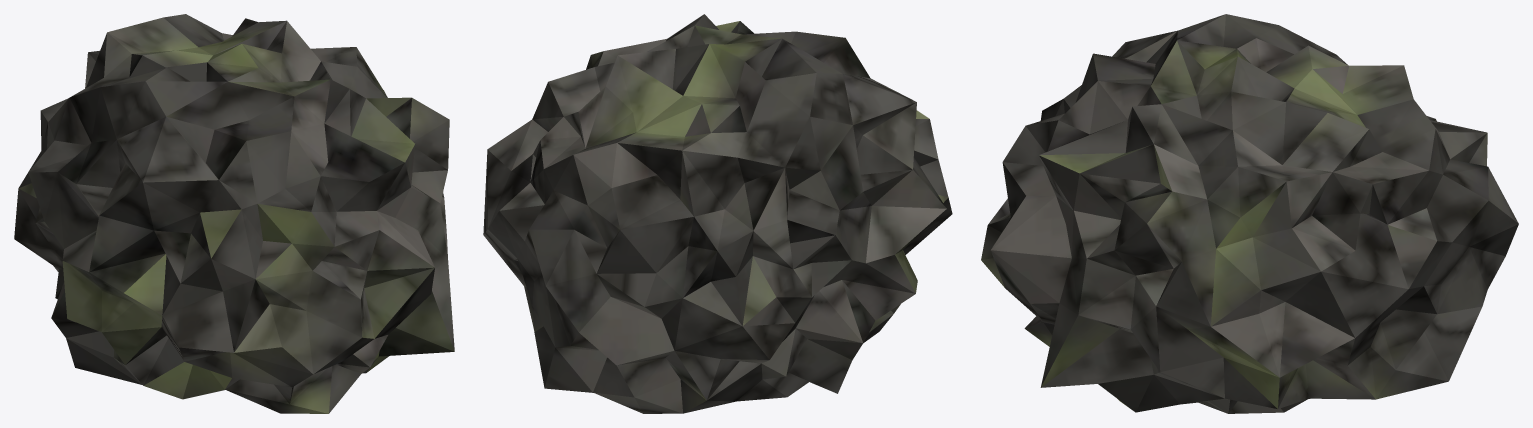
The model's file is rock3.fbx.
3 renders of one model, left to right at view 1: azimuth 30°, elevation 25°; view 2: azimuth 150°, elevation 25°; view 3: azimuth 270°, elevation 25°, orthographic. The views are drawn at different scales.
Parts seen in each view (by area): view 1: rock3; view 2: rock3; view 3: rock3.
Part boxes in pixels (x1,y1,x2,y2): rock3: (14,14,454,413); rock3: (483,14,952,413); rock3: (981,14,1518,413).
Size of the model in its own units: 2.28 by 1.77 by 2.71.
1 material, 1 textured.
